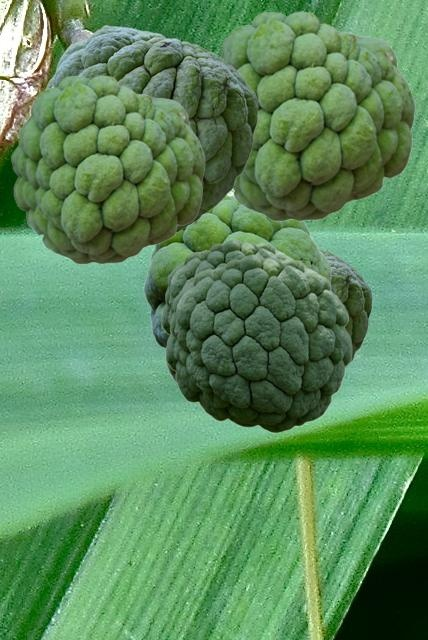atis: (45, 25, 257, 232), (218, 11, 414, 220), (10, 75, 204, 263), (143, 193, 334, 382), (165, 254, 351, 432), (161, 239, 293, 334), (319, 248, 371, 367)
